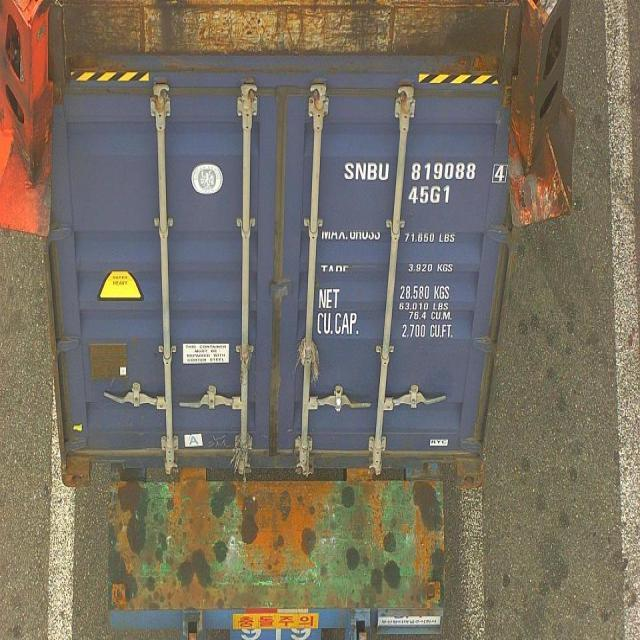ISO: (410, 186, 450, 204)
container_number: (350, 162, 510, 182)
